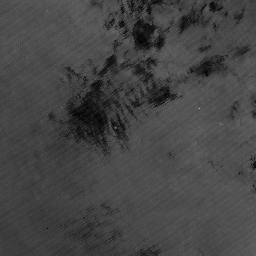Target: (112, 125, 118, 130)
